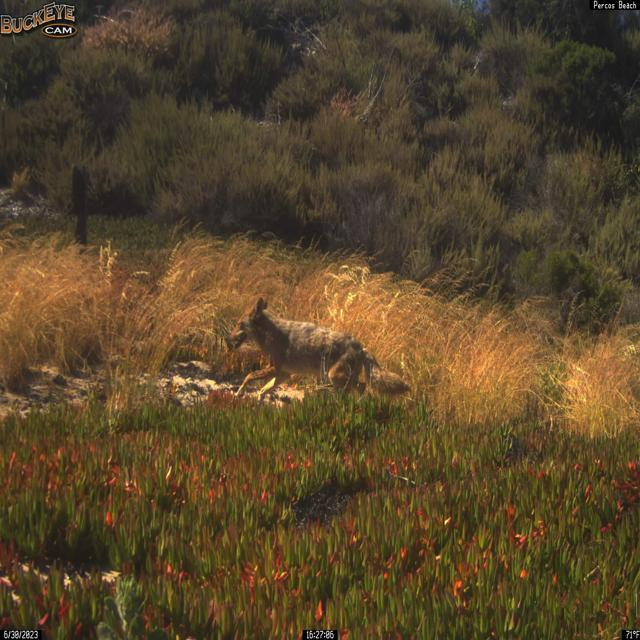coyote: (224, 295, 413, 410)
